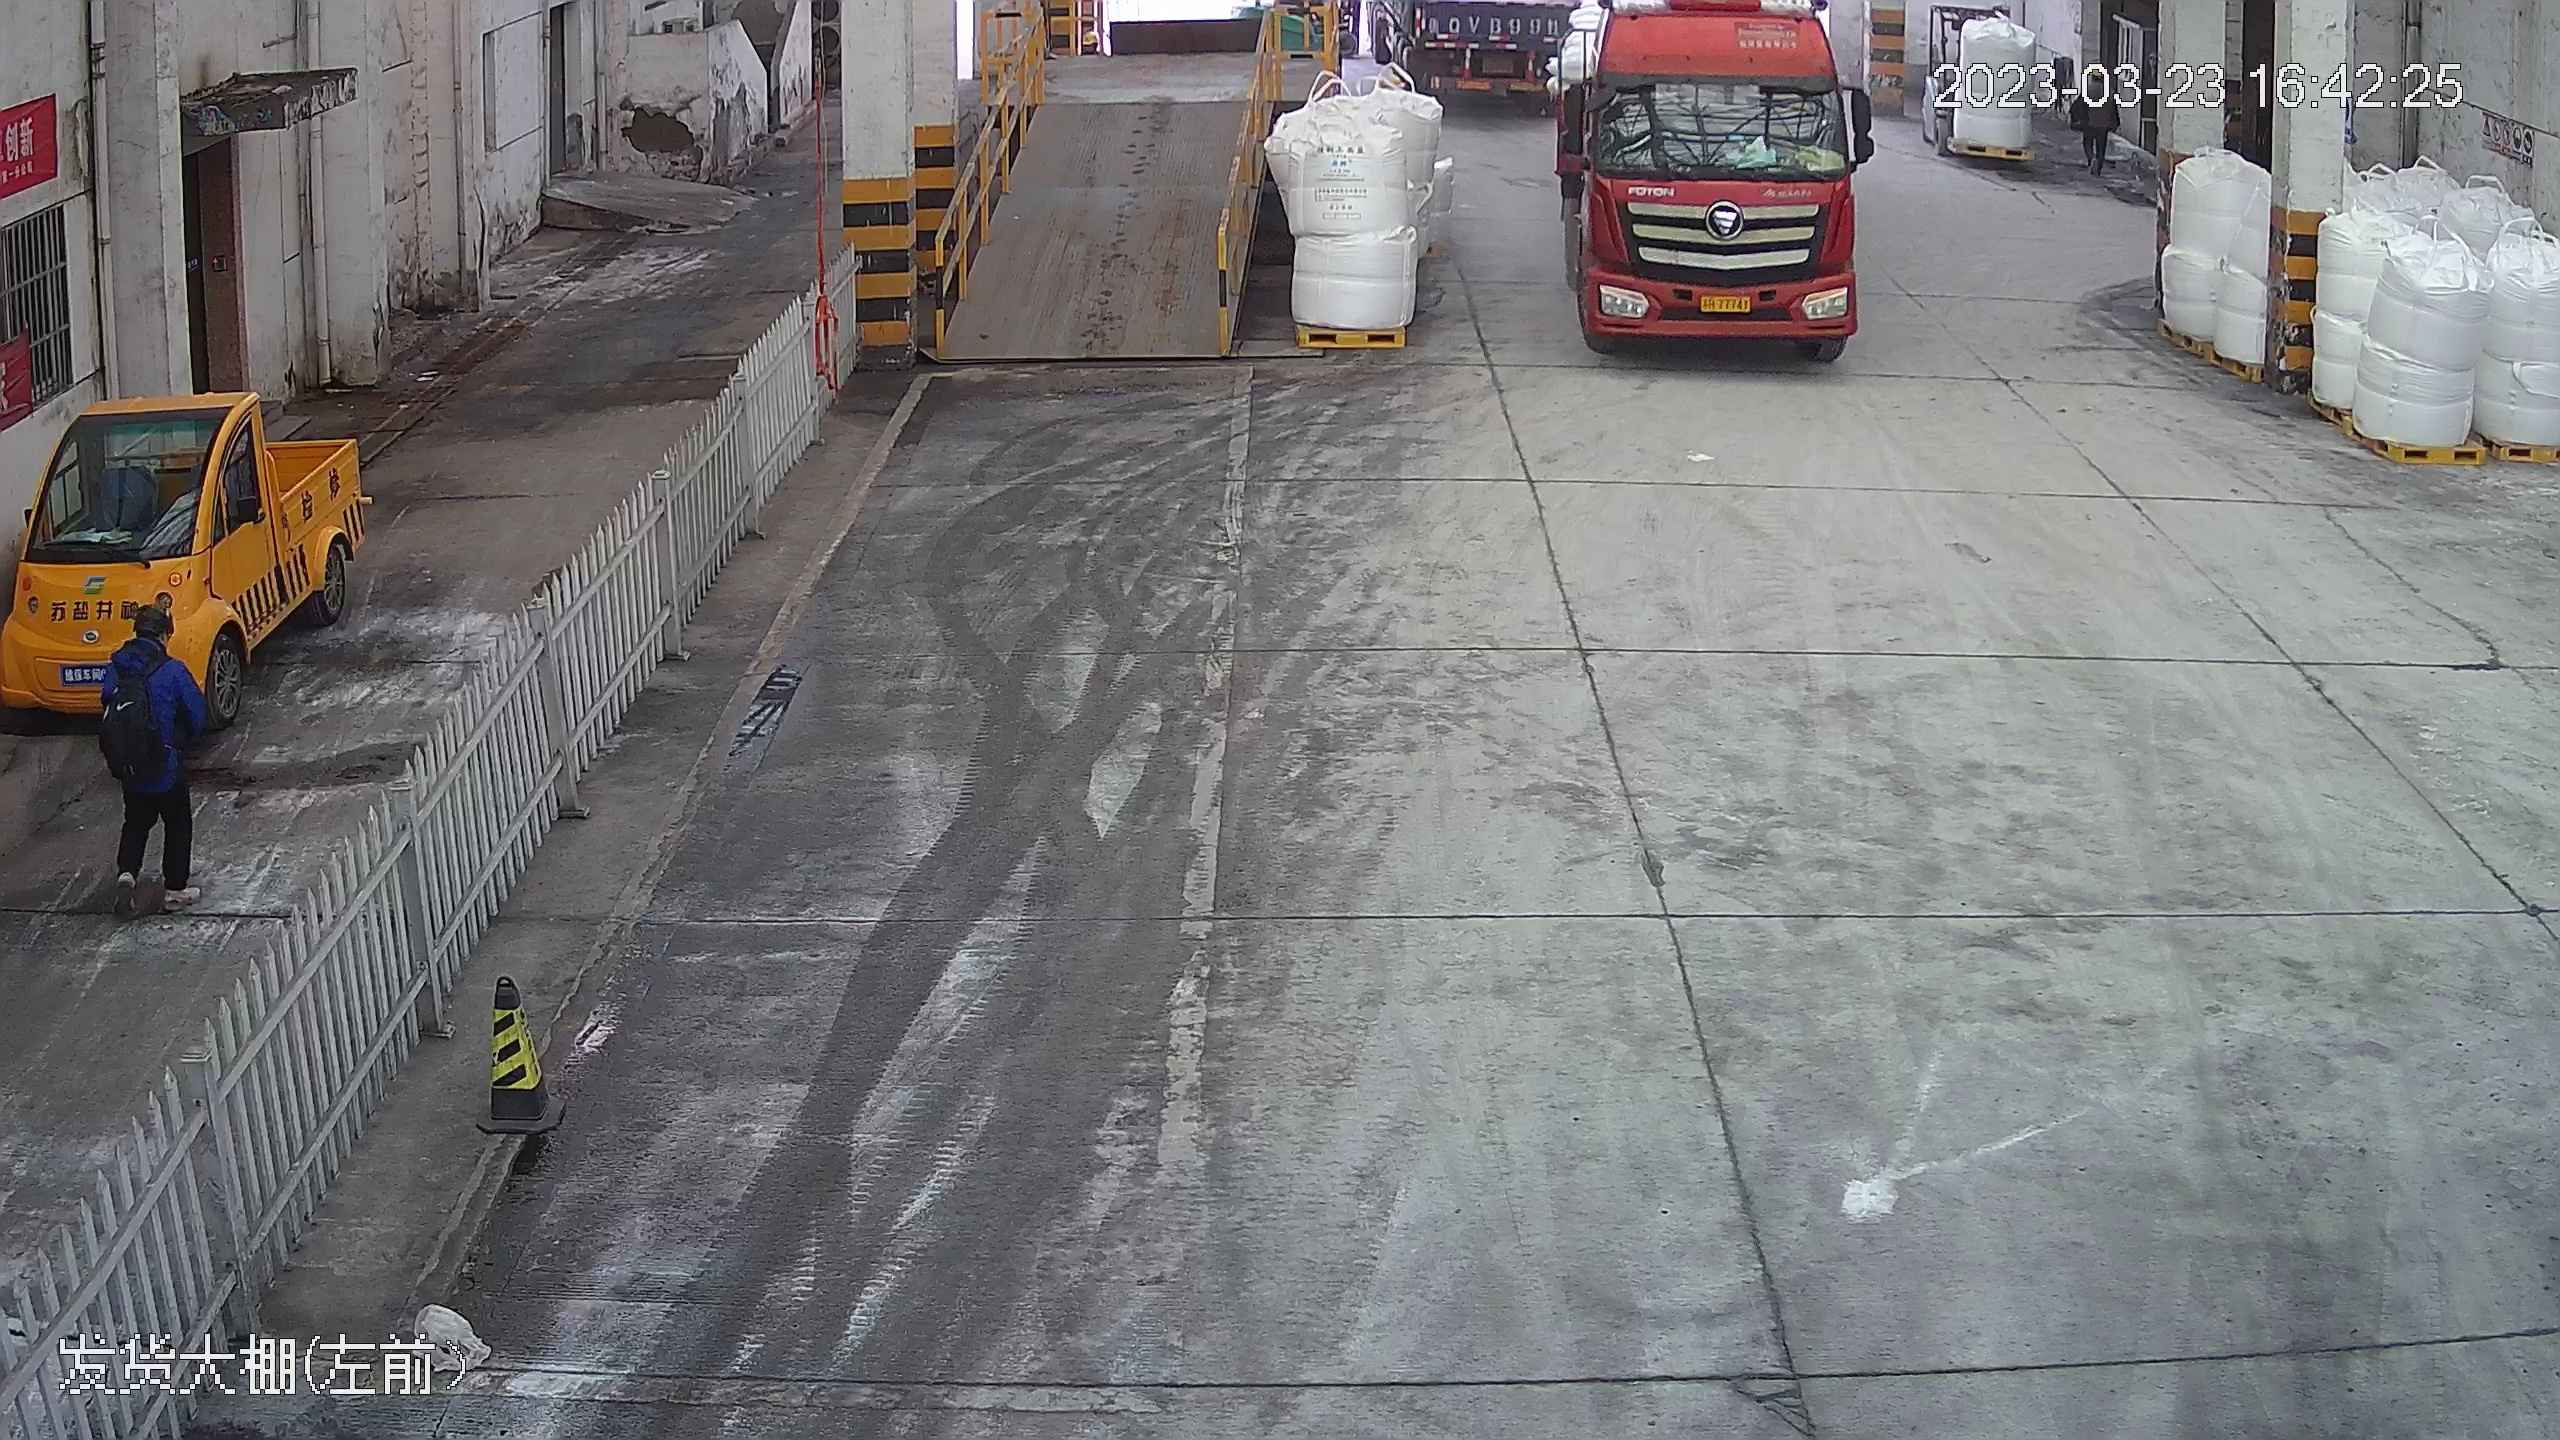head: (102, 598, 188, 696)
helmet: (127, 602, 184, 638)
people: (91, 603, 200, 909)
truck: (1546, 1, 1877, 357)
